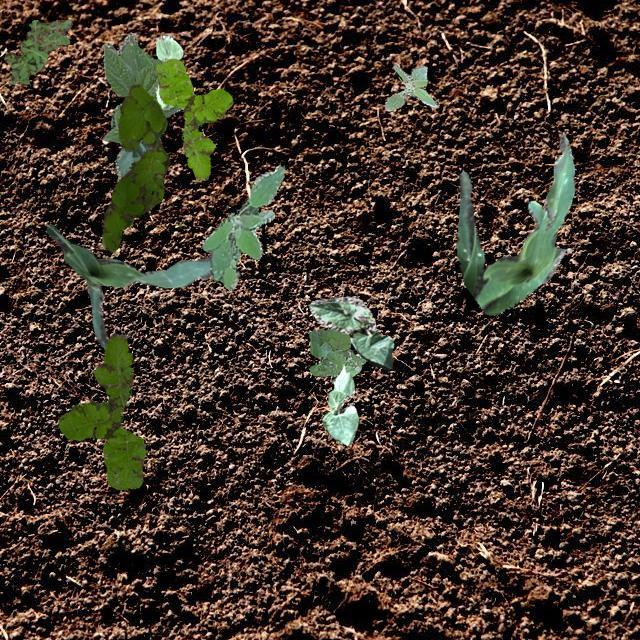crop: (456, 132, 574, 314), (46, 224, 210, 348), (101, 33, 181, 178), (308, 294, 392, 368), (322, 366, 358, 444), (154, 34, 182, 109)
weed: (58, 332, 144, 490), (102, 84, 168, 252), (202, 164, 284, 290), (154, 58, 232, 180), (4, 18, 72, 84), (308, 326, 364, 376), (384, 64, 436, 110)
